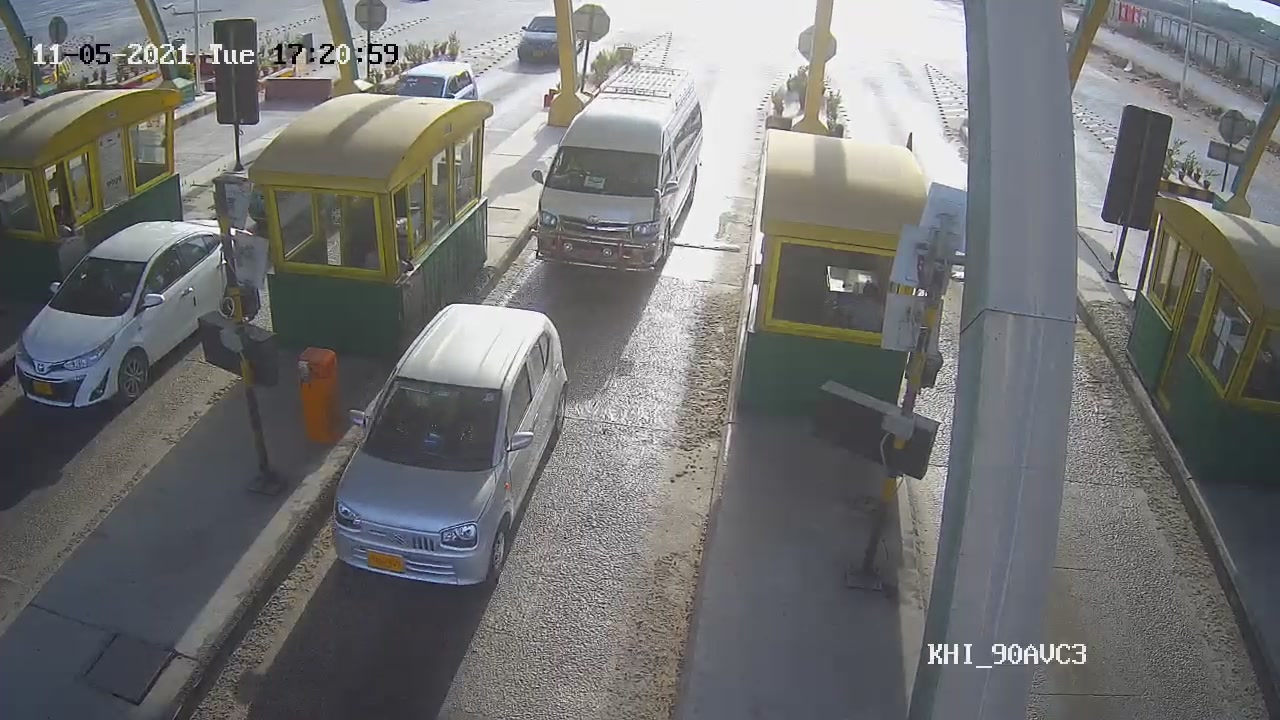F1: (323, 310, 588, 599)
F2: (532, 57, 710, 287)
